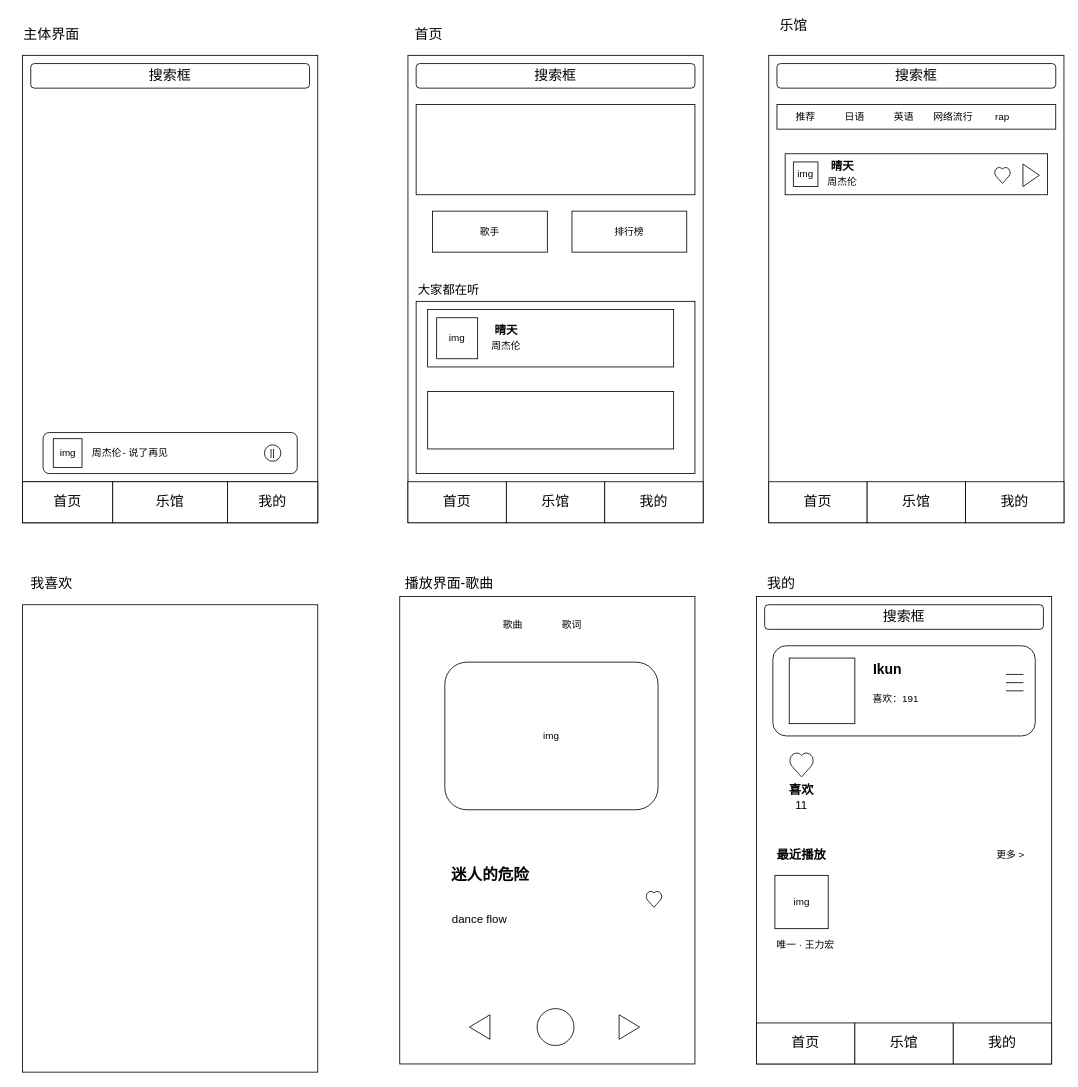
Image size: 1078x1087. Some labels were removed from this diagram. The shapes that lost their labels are listed below. From the top down, each one's centre as x and y in pixels, then its label:
point 555,149: 轮播图
point 821,690: avatar
point 170,838: 与乐馆类似
